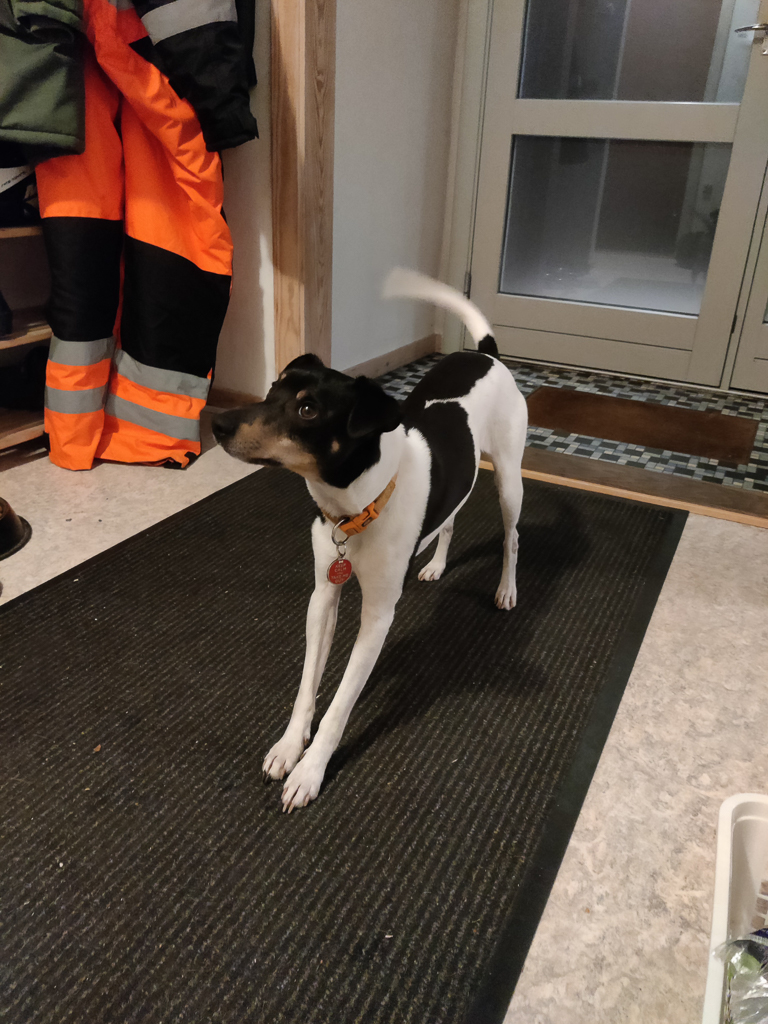Dog: (189, 247, 548, 817)
